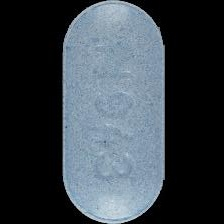63629-1677: (0, 0, 224, 224)
